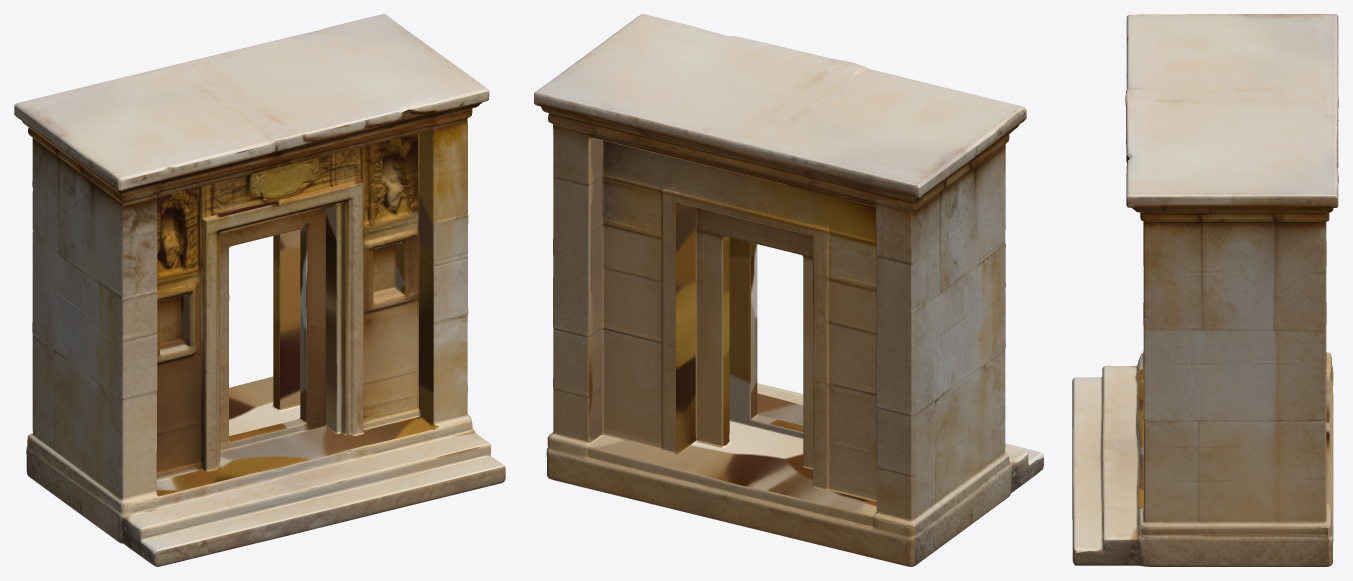
Rendered from traveler_env_coast_mouth_stepped_ruin_hall_00001_.glb.
3 views of the same model, side by side, from view 1: azimuth 30°, elevation 25°; view 2: azimuth 150°, elevation 25°; view 3: azimuth 270°, elevation 25° (orthographic). The views are drawn at different scales.
Visible parts, largest first — view 1: temp_mesh.ply; view 2: temp_mesh.ply; view 3: temp_mesh.ply.
Boxes of the visible parts, box(x1,y1,x2,y2) form: temp_mesh.ply: box(14, 14, 505, 566); temp_mesh.ply: box(534, 14, 1043, 566); temp_mesh.ply: box(1072, 14, 1338, 566).
Bounding box in the file's own units: 1.97 × 1.9 × 1.21.
1 material, 1 textured.
